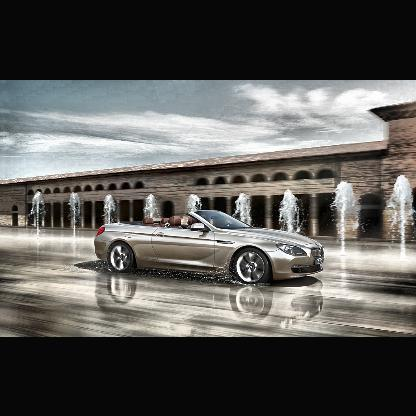BMW M6 Convertible 2010: (96, 209, 327, 287)
